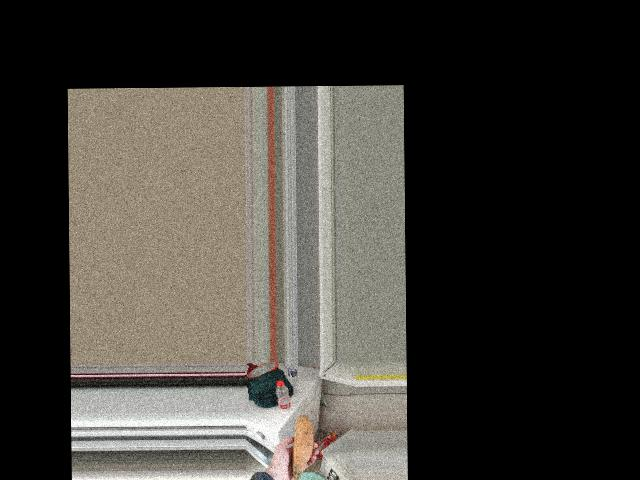sweet_potato: (291, 416, 315, 474)
